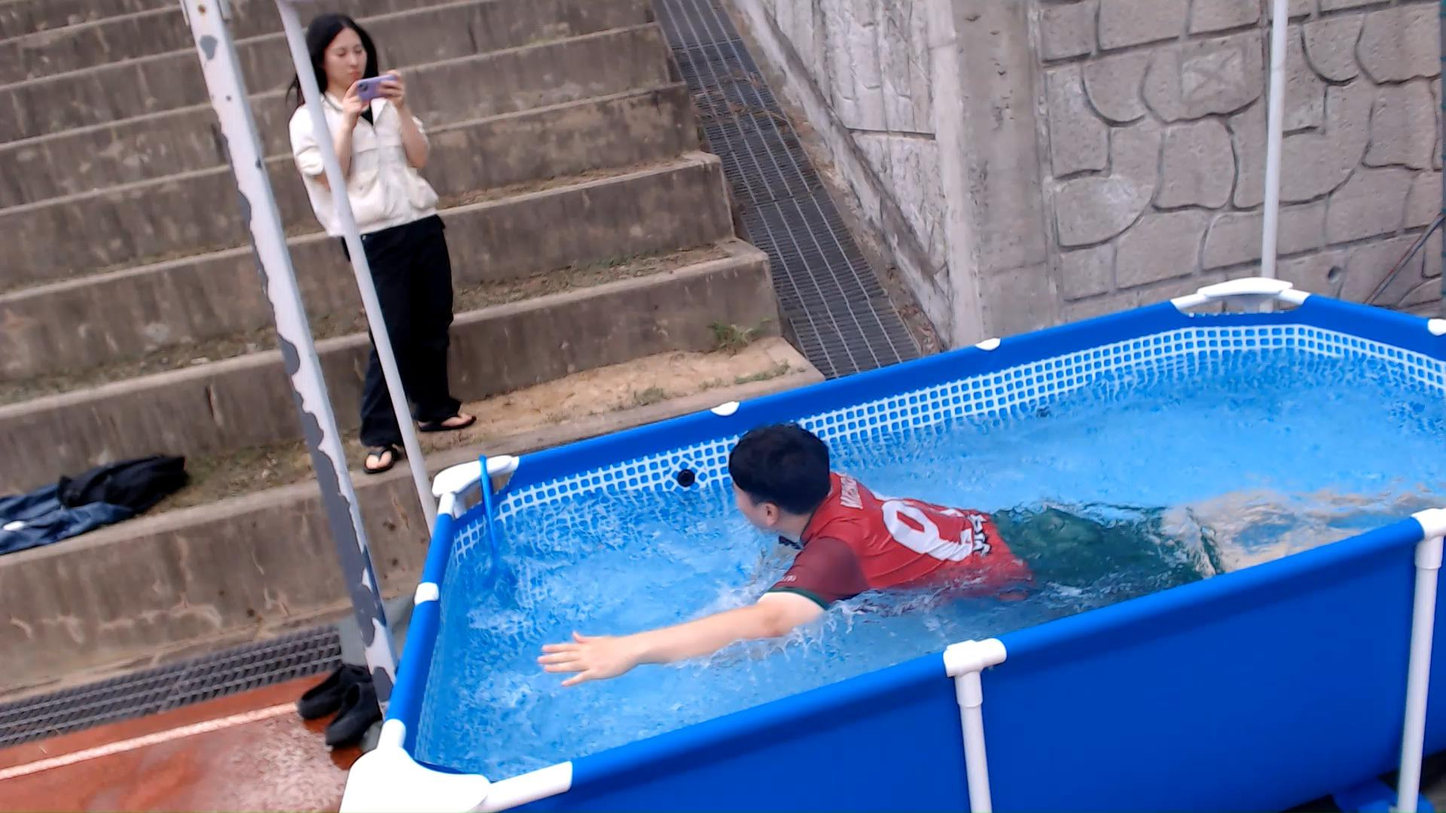Swimming: (504, 336, 1437, 711)
